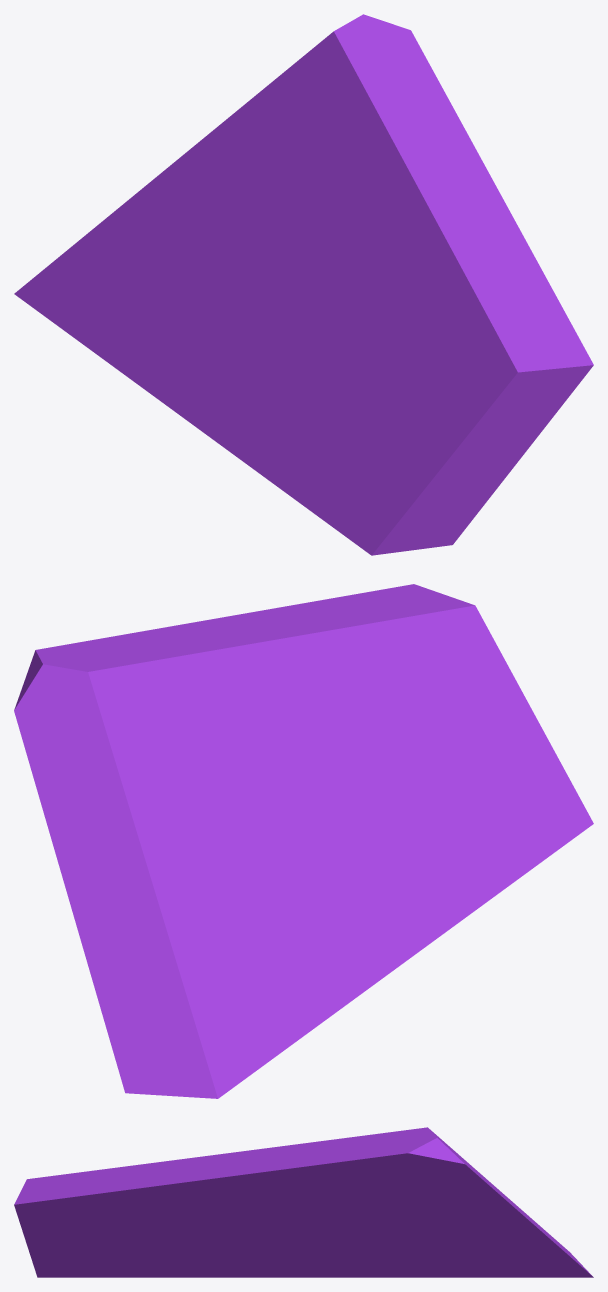
File: Window_116_0_chunks.fbx
3 renders of one model, top to bottom at view 1: azimuth 30°, elevation 25°; view 2: azimuth 150°, elevation 25°; view 3: azimuth 270°, elevation 25°, orthographic. The views are drawn at different scales.
Visible parts, largest first — view 1: Window_116_0_1, Window_116_0_0, Window_116_0_2, Window_116_0_6, Window_116_0_3, Window_116_0_4, Window_116_0_5; view 2: Window_116_0_0, Window_116_0_1, Window_116_0_2, Window_116_0_6, Window_116_0_4, Window_116_0_3, Window_116_0_5; view 3: Window_116_0_1, Window_116_0_2, Window_116_0_4, Window_116_0_6, Window_116_0_5, Window_116_0_3, Window_116_0_0.
Boxes of the visible parts, bbox=[...] form: Window_116_0_1: bbox=[361, 181, 593, 555]; Window_116_0_0: bbox=[173, 222, 374, 547]; Window_116_0_2: bbox=[250, 14, 493, 228]; Window_116_0_6: bbox=[111, 100, 289, 260]; Window_116_0_3: bbox=[104, 238, 270, 409]; Window_116_0_4: bbox=[14, 214, 176, 359]; Window_116_0_5: bbox=[251, 190, 303, 269]; Window_116_0_0: bbox=[256, 701, 582, 976]; Window_116_0_1: bbox=[207, 584, 593, 831]; Window_116_0_2: bbox=[14, 620, 287, 787]; Window_116_0_6: bbox=[36, 775, 251, 969]; Window_116_0_4: bbox=[86, 918, 312, 1098]; Window_116_0_3: bbox=[246, 824, 384, 1029]; Window_116_0_5: bbox=[221, 772, 288, 832]; Window_116_0_1: bbox=[14, 1153, 308, 1277]; Window_116_0_2: bbox=[227, 1127, 490, 1215]; Window_116_0_4: bbox=[372, 1215, 593, 1277]; Window_116_0_6: bbox=[398, 1160, 547, 1237]; Window_116_0_5: bbox=[280, 1201, 409, 1267]; Window_116_0_3: bbox=[280, 1257, 375, 1277]; Window_116_0_0: bbox=[235, 1257, 280, 1277].
Bounding box in the file's own units: 402 × 382 × 975.
